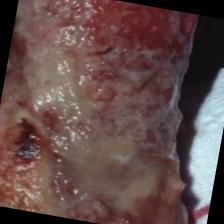wound-ulser: (13, 0, 217, 64)
